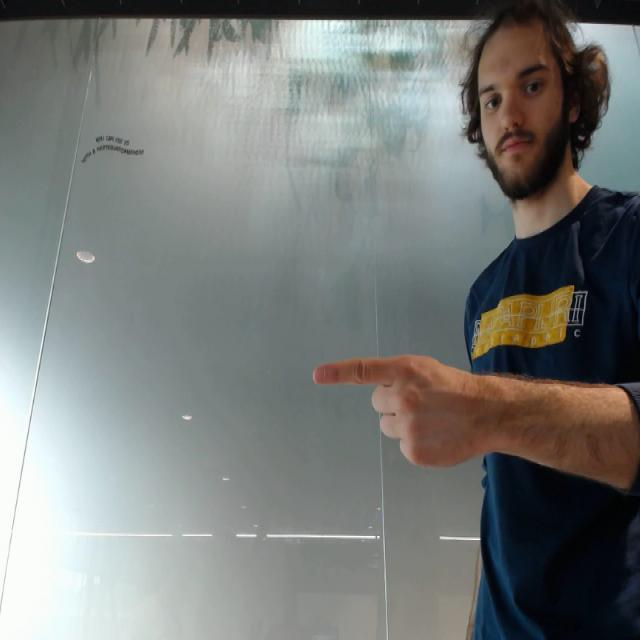left: (306, 342, 492, 472)
